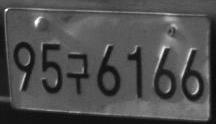1: (125, 45, 149, 98)
5: (41, 42, 63, 94)
6: (96, 44, 121, 96), (179, 49, 204, 101), (152, 47, 176, 99)
9: (12, 40, 35, 91)
구: (66, 53, 90, 95)
